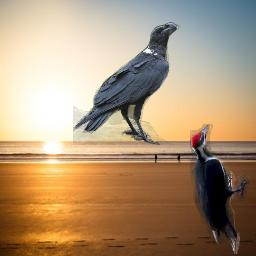Crow: (73, 21, 181, 145)
Woodpecker: (190, 124, 250, 254)
